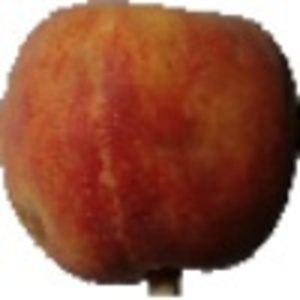pêssego: (1, 1, 300, 299)
